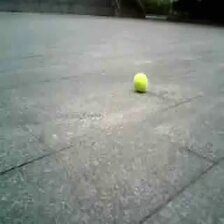tennis: (134, 73, 147, 91)
